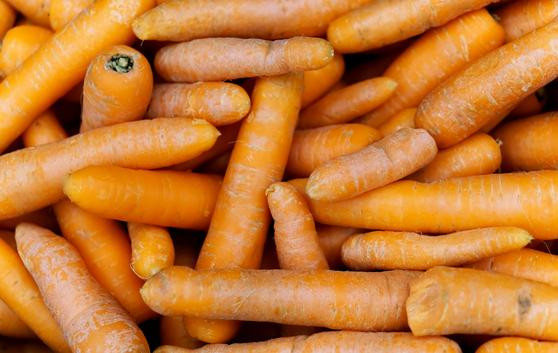carrot: (148, 255, 433, 339), (187, 70, 303, 275), (3, 114, 221, 220), (420, 18, 558, 137), (63, 158, 242, 227), (345, 214, 533, 279), (148, 30, 339, 85)
